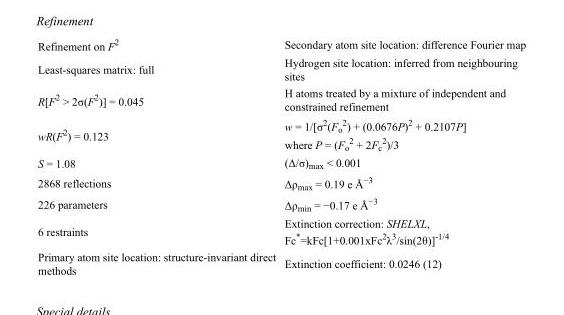table: (37, 36, 525, 276)
table column: (279, 36, 525, 276), (37, 36, 279, 276)
table row: (37, 114, 525, 153), (37, 214, 525, 248), (37, 53, 525, 84), (37, 84, 525, 114), (37, 248, 525, 276), (37, 172, 525, 193), (37, 193, 525, 214), (37, 153, 525, 172), (37, 36, 525, 53)
